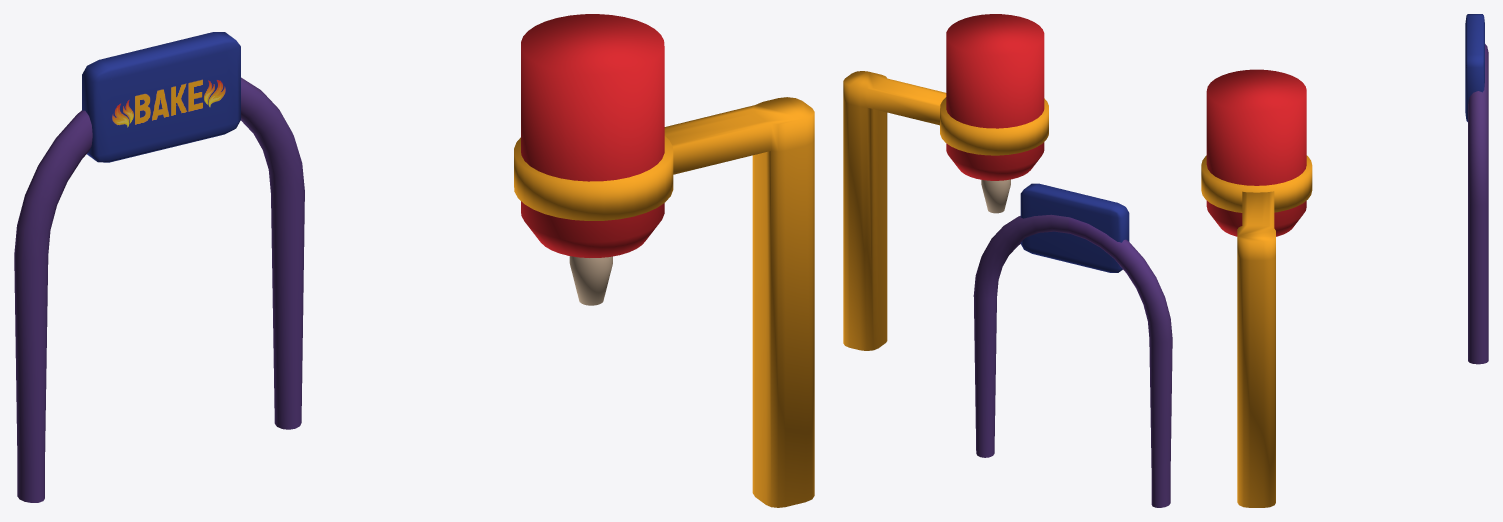
The model's file is gates.fbx.
3 views of the same model, side by side, from view 1: azimuth 30°, elevation 25°; view 2: azimuth 150°, elevation 25°; view 3: azimuth 270°, elevation 25° (orthographic). The views are drawn at different scales.
Parts seen in each view (by area): view 1: Cylinder.003, Cube.084; view 2: Cylinder.003, Cube.084; view 3: Cylinder.003, Cube.084.
Part boxes in pixels (x1,y1,x2,y2): Cylinder.003: (514,14,814,507); Cube.084: (14,32,304,502); Cylinder.003: (843,14,1048,350); Cube.084: (973,183,1172,507); Cylinder.003: (1201,69,1312,507); Cube.084: (1465,14,1488,364).
Bounding box in the file's own units: 914 × 685 × 518.
Materials: 3 (3 with a texture image).
